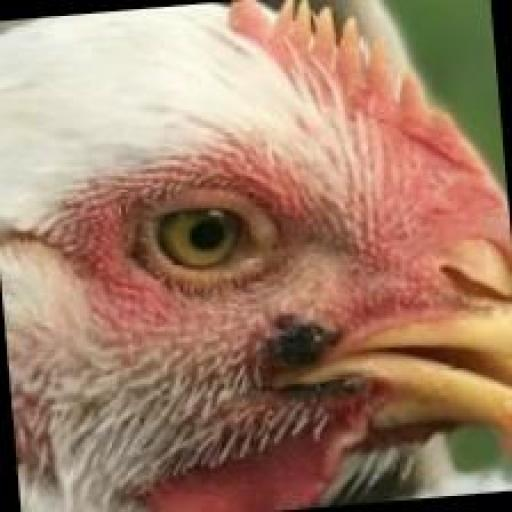disease: (243, 266, 398, 421)
